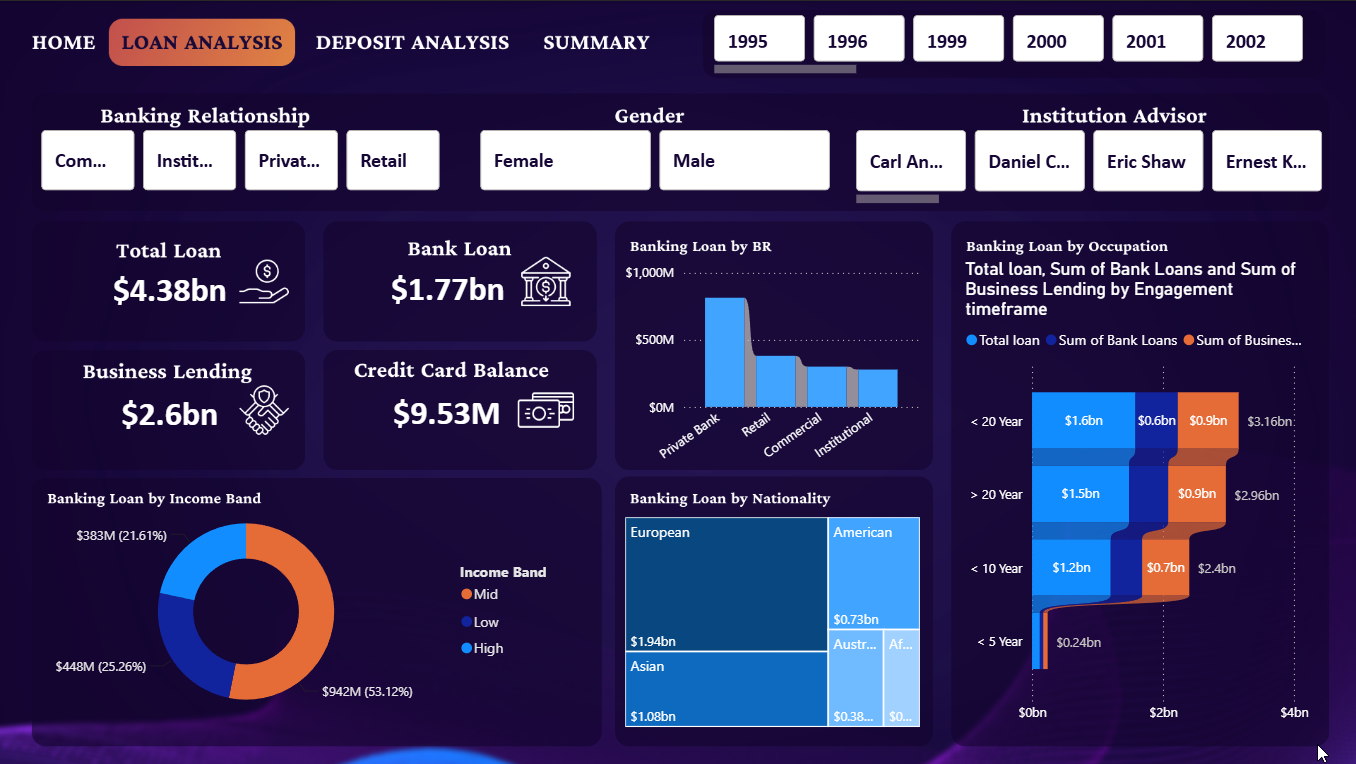

The page's visual inventory and layout, read from the dashboard file:
{"tool":"powerbi","page":{"name":"Loan","canvas":[1280,720],"ordinal":1},"visuals":[{"type":"advancedSlicerVisual","fields":{"Values":["Clients - Banking.Year"]},"box":[669.6,13.4,571.2,57.3],"z":0},{"type":"advancedSlicerVisual","fields":{"Values":["Clients - Banking.GenderId"]},"box":[448,121.3,340.1,57.3],"z":1000},{"type":"advancedSlicerVisual","fields":{"Values":["Investment Advisor.Investment Advisor"]},"box":[803.3,121.3,450.9,71.6],"z":2000},{"type":"advancedSlicerVisual","fields":{"Values":["Banking Relationship.Banking Relationship"]},"box":[34.4,121.3,388.8,57.3],"z":3000},{"type":"actionButton","box":[25.8,25.8,66.9,24.8],"z":4000},{"type":"actionButton","box":[290,26,192.1,25.1],"z":5000},{"type":"actionButton","box":[509.9,26,107.7,25.1],"z":6000},{"type":"card","fields":{"Values":["Clients - Banking.Total loan"]},"box":[79,242.4,161.8,57.9],"z":7000},{"type":"card","fields":{"Values":["Sum(Clients - Banking.Bank Loans)"]},"box":[342,241.5,161.8,57.9],"z":8000},{"type":"card","fields":{"Values":["Sum(Clients - Banking.Credit Card Balance)"]},"box":[340.4,358.3,161.8,57.9],"z":9000},{"type":"card","fields":{"Values":["Sum(Clients - Banking.Business Lending)"]},"box":[79,360,161.8,57.9],"z":10000},{"type":"treemap","fields":{"Group":["Clients - Banking.Nationality"],"Values":["Clients - Banking.Total loan"]},"box":[585.3,482.4,287.9,207.7],"z":11000},{"type":"donutChart","fields":{"Category":["Clients - Banking.Income Band"],"Y":["Sum(Clients - Banking.Bank Loans)"]},"box":[25.5,462.5,513.5,227.5],"z":12000},{"type":"columnChart","fields":{"Category":["Banking Relationship.Banking Relationship"],"Y":["Sum(Clients - Banking.Bank Loans)"]},"box":[585.3,242.6,287.9,209.6],"z":13000},{"type":"barChart","fields":{"Category":["Clients - Banking.Engagement timeframe"],"Y":["Clients - Banking.Total loan","Sum(Clients - Banking.Bank Loans)","Sum(Clients - Banking.Business Lending)"]},"box":[906.2,242.6,334.2,447.4],"z":14000}]}

Visuals, with their boxes in screenshot pixels (x1, y1, x2, y2), scaled from the page's 1280x720 canvas onto the 1356x764 screenshot:
advancedSlicerVisual - Clients - Banking.Year: <box>709,14,1314,75</box>
advancedSlicerVisual - Clients - Banking.GenderId: <box>475,129,835,190</box>
advancedSlicerVisual - Investment Advisor.Investment Advisor: <box>851,129,1329,205</box>
advancedSlicerVisual - Banking Relationship.Banking Relationship: <box>36,129,448,190</box>
actionButton: <box>27,27,98,54</box>
actionButton: <box>307,28,511,54</box>
actionButton: <box>540,28,654,54</box>
card - Clients - Banking.Total loan: <box>84,257,255,319</box>
card - Sum(Clients - Banking.Bank Loans): <box>362,256,534,318</box>
card - Sum(Clients - Banking.Credit Card Balance): <box>361,380,532,442</box>
card - Sum(Clients - Banking.Business Lending): <box>84,382,255,443</box>
treemap - Clients - Banking.Nationality x Clients - Banking.Total loan: <box>620,512,925,732</box>
donutChart - Clients - Banking.Income Band x Sum(Clients - Banking.Bank Loans): <box>27,491,571,732</box>
columnChart - Banking Relationship.Banking Relationship x Sum(Clients - Banking.Bank Loans): <box>620,257,925,480</box>
barChart - Clients - Banking.Engagement timeframe x Clients - Banking.Total loan: <box>960,257,1314,732</box>
